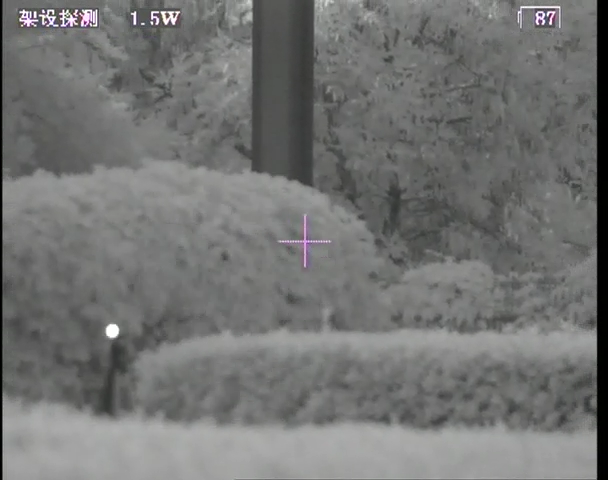my: (103, 321, 120, 340)
